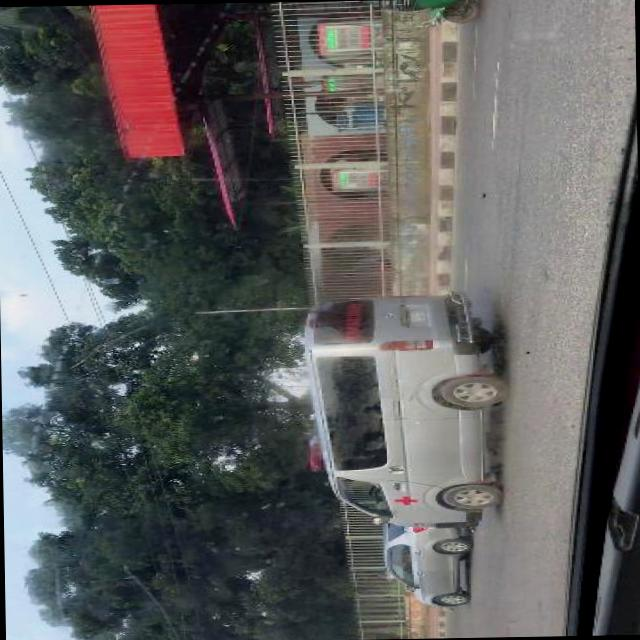car: (375, 527, 478, 612)
truck: (300, 288, 518, 530)
